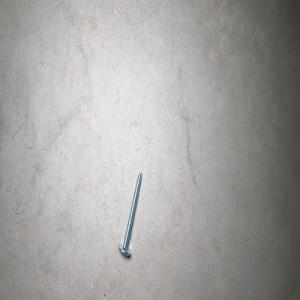Bolt: (117, 170, 142, 256)
